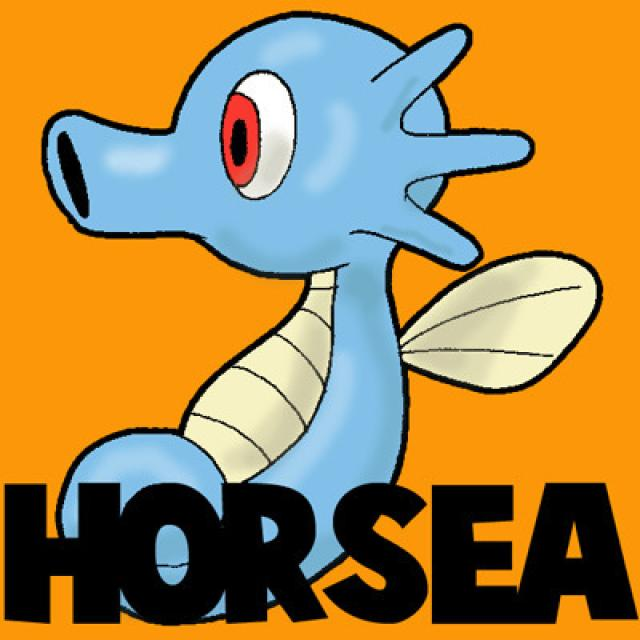Horsea: (42, 14, 552, 540)
